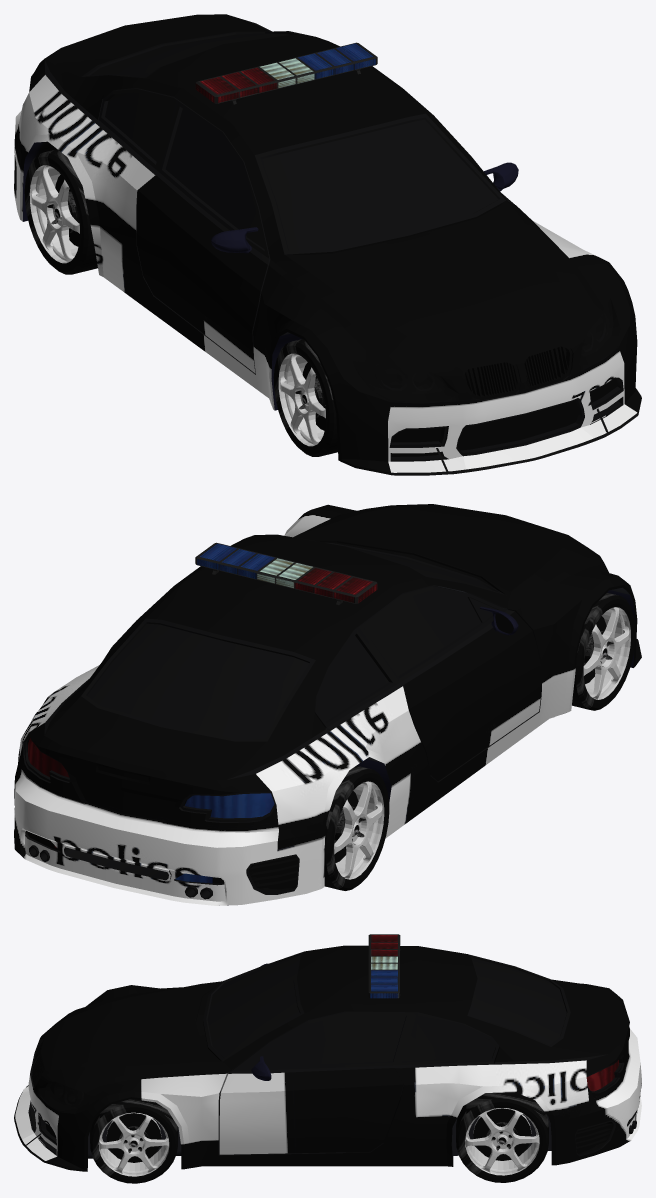
File: PoliceCar5.FBX
The picture shows the model from 3 angles, top to bottom: view 1: azimuth 30°, elevation 25°; view 2: azimuth 150°, elevation 25°; view 3: azimuth 270°, elevation 25°; orthographic projection. The views are drawn at different scales.
Parts seen in each view (by area): view 1: Body, BR, FR; view 2: Body, BR, FR; view 3: Body, BL, FL.
Boxes of the visible parts, x1,y1,x2,y2 form: Body: (14,14,641,475); BR: (24,149,97,274); FR: (273,339,337,456); Body: (14,504,641,905); BR: (324,765,389,890); FR: (572,592,635,710); Body: (14,934,641,1171); BL: (456,1092,548,1182); FL: (90,1099,177,1183).
Bounding box in the file's own units: 19.43 × 13.5 × 46.11.
